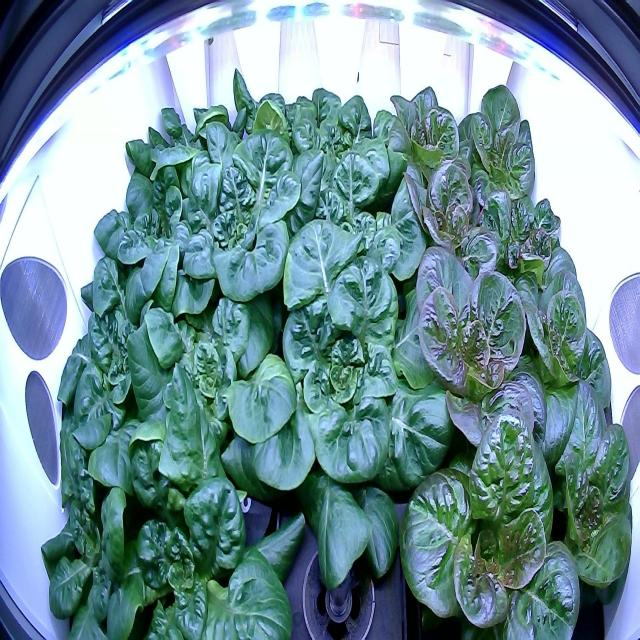young: (253, 274, 459, 596), (100, 258, 298, 506), (387, 400, 583, 639), (95, 430, 307, 639), (379, 239, 553, 485), (46, 286, 192, 523), (268, 160, 410, 376), (170, 121, 314, 325), (29, 441, 170, 638), (526, 379, 636, 626), (503, 238, 620, 445), (73, 158, 208, 324), (385, 152, 512, 316), (268, 74, 395, 231), (108, 83, 231, 240), (462, 169, 568, 325), (445, 72, 543, 235), (367, 81, 475, 218), (204, 58, 317, 182)
